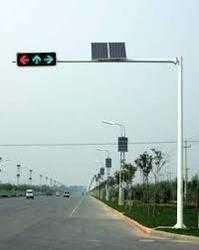green: (32, 51, 44, 68), (43, 52, 56, 67)
red: (18, 52, 32, 69)
